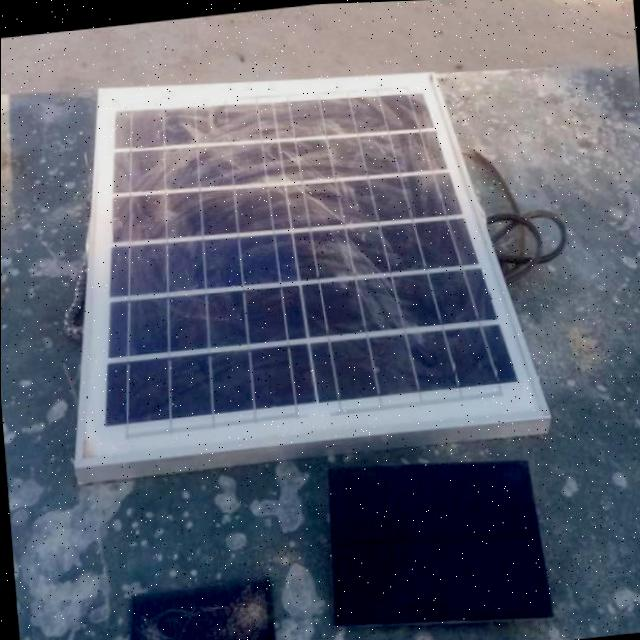Normal Solar Panel: (324, 451, 548, 631)
